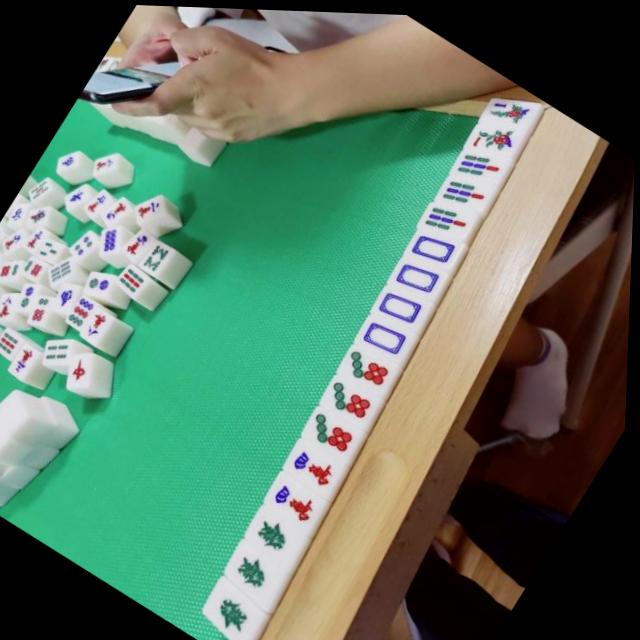bf1: (483, 83, 536, 130)
bs1: (466, 109, 521, 161)
hdg: (206, 583, 270, 640), (228, 543, 288, 597), (247, 507, 306, 560)
hdw: (374, 279, 429, 329), (358, 310, 413, 359), (392, 251, 446, 299), (408, 222, 460, 269)
sb7: (419, 194, 475, 241), (452, 140, 506, 188), (437, 167, 491, 214)
sc4: (267, 472, 330, 527), (286, 440, 345, 491)
sd7: (303, 405, 363, 458), (320, 373, 380, 425), (341, 343, 394, 390)
